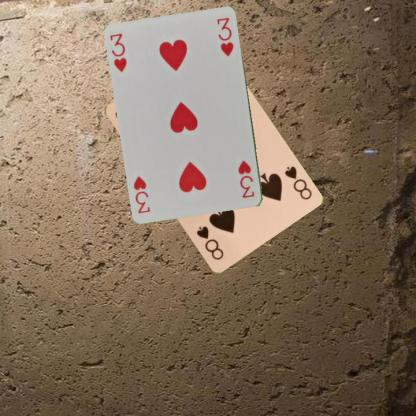3h: (107, 30, 128, 74), (236, 158, 256, 199)
8s: (282, 163, 314, 201)
